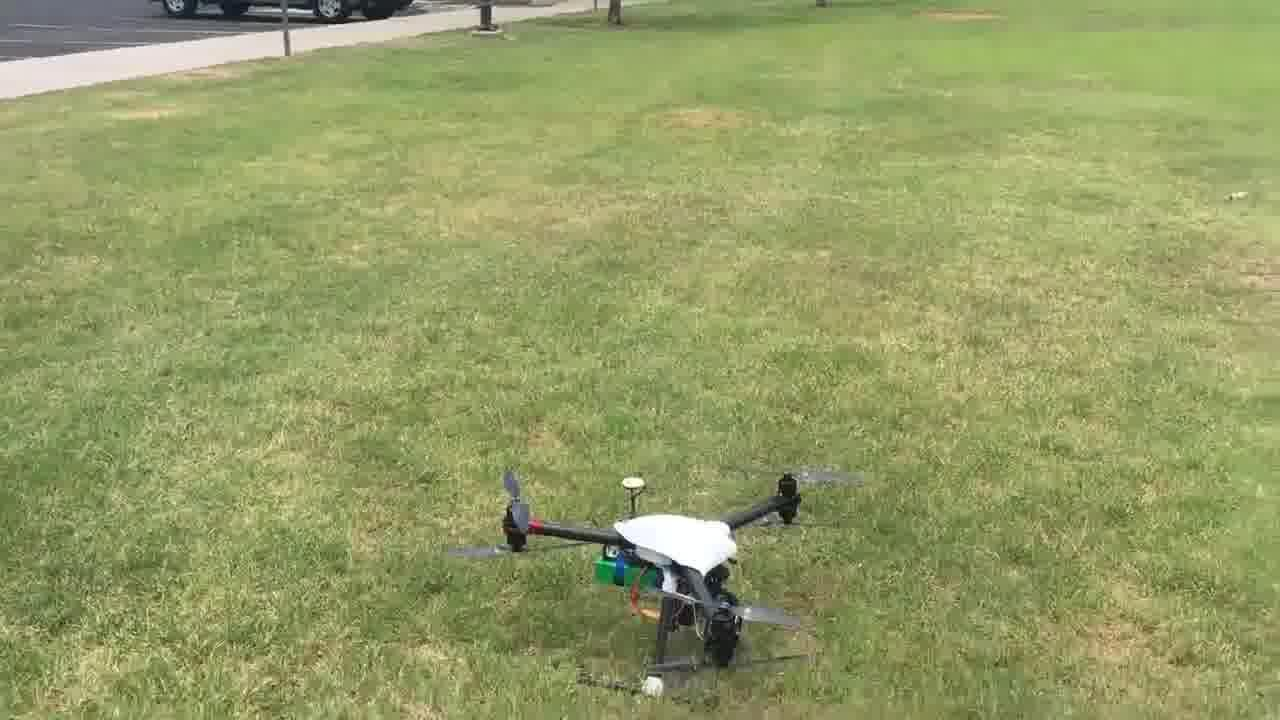drone: (449, 455, 867, 639)
